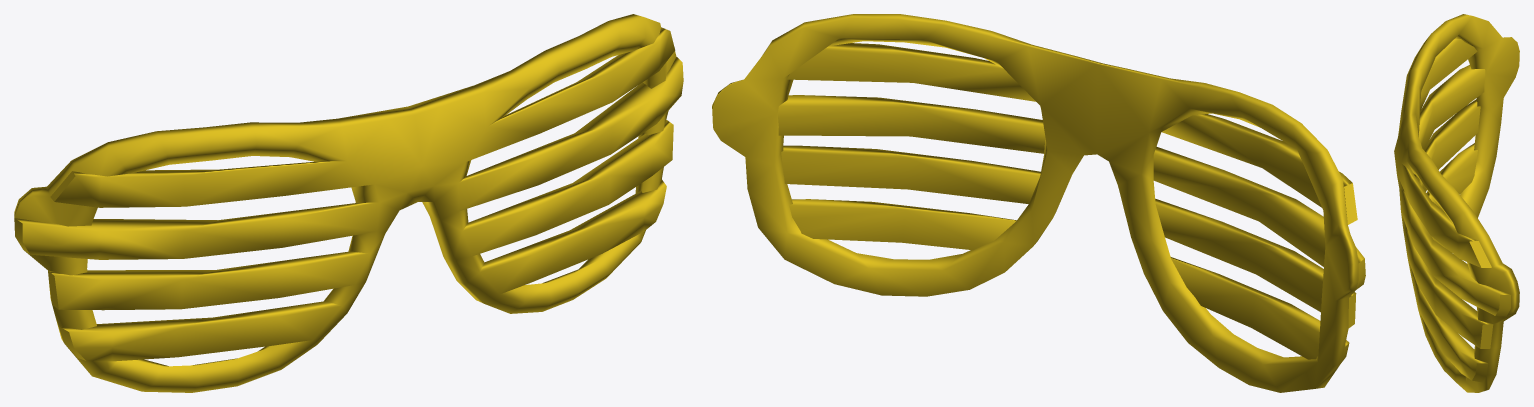
File: AccessoryGlassBlind4.glb
The picture shows the model from 3 angles, left to right: view 1: azimuth 30°, elevation 25°; view 2: azimuth 150°, elevation 25°; view 3: azimuth 270°, elevation 25°; orthographic projection. The views are drawn at different scales.
Visible parts, largest first — view 1: Accessory__mAccessory; view 2: Accessory__mAccessory; view 3: Accessory__mAccessory.
Boxes of the visible parts, x1=… form: Accessory__mAccessory: x1=14, y1=14, x2=683, y2=392; Accessory__mAccessory: x1=712, y1=14, x2=1365, y2=392; Accessory__mAccessory: x1=1394, y1=14, x2=1519, y2=392.
Size of the model in its own units: 6.64 by 2.6 by 1.44.
1 material, 1 textured.
